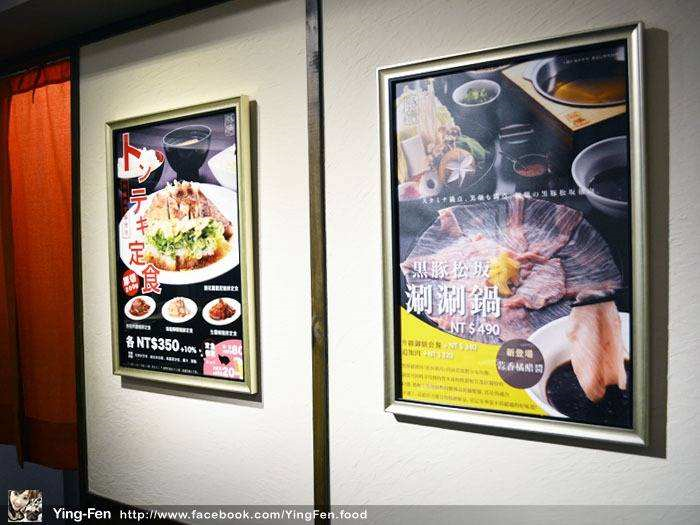bill: (385, 28, 632, 435), (104, 101, 249, 389)
